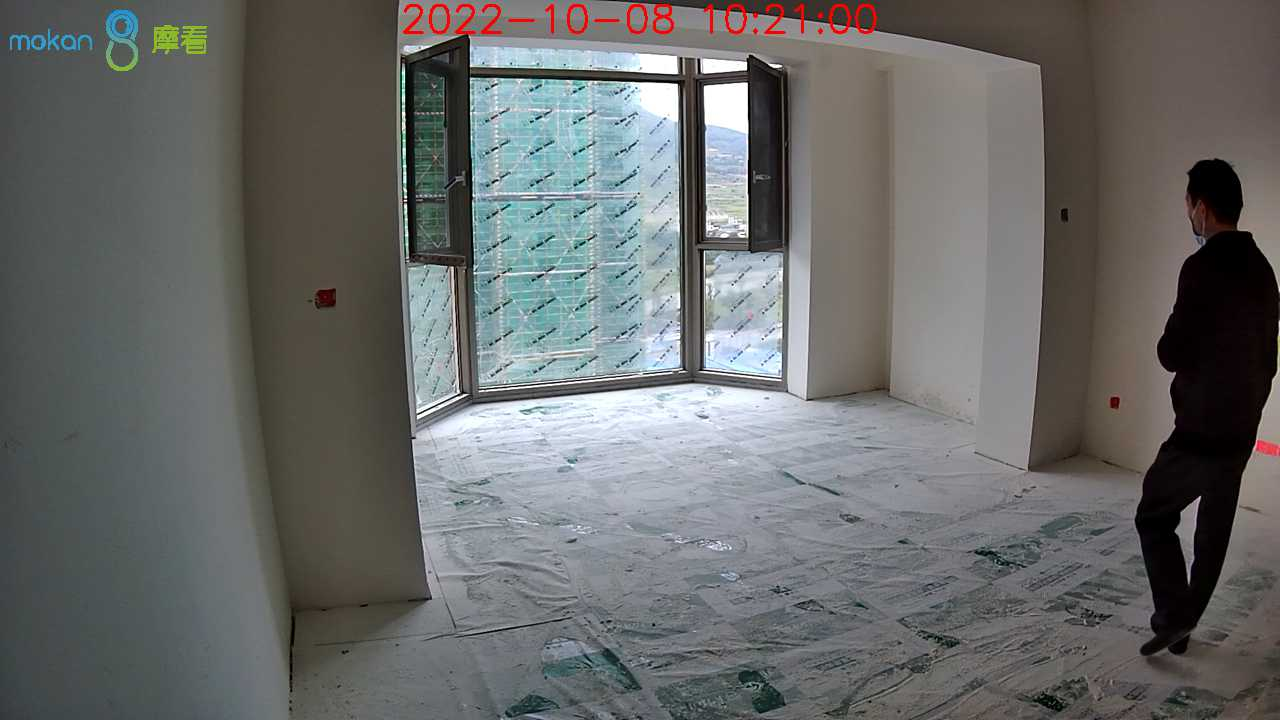people: (1136, 159, 1280, 653)
window: (395, 42, 797, 414)
